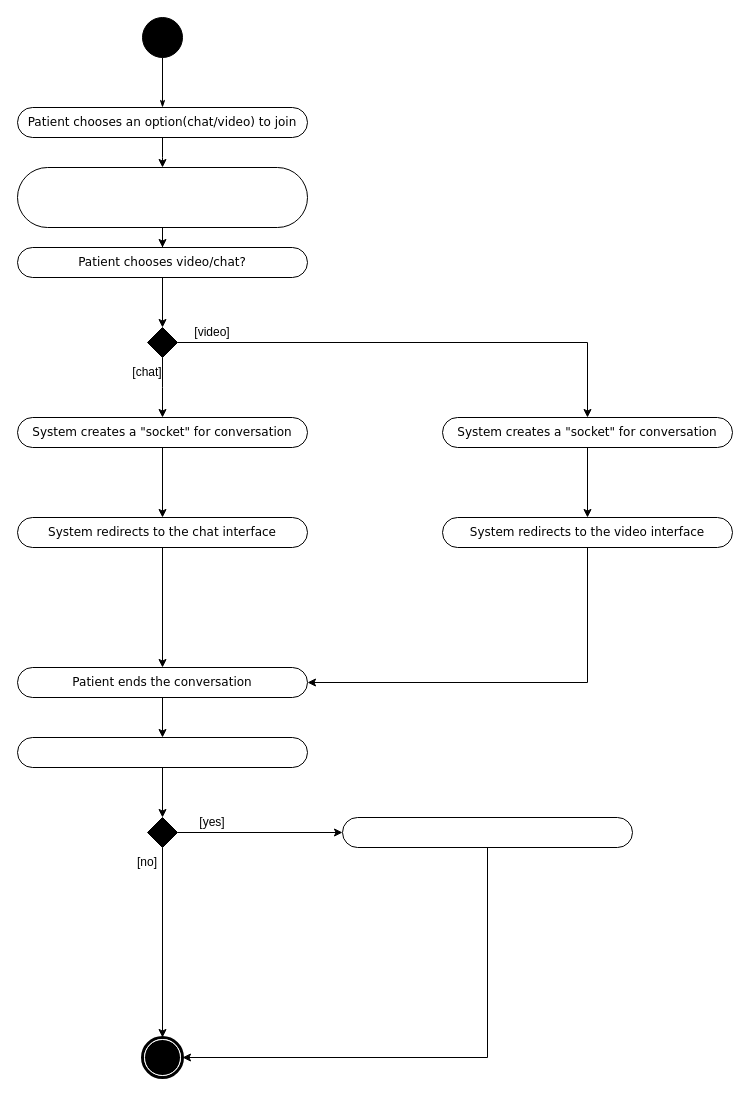
Some shapes in this 750 by 1095 pixel diagram are drawn without their labels. The shapes that lost their labels are listed below. From the top down, each one's box as (x1, y1, x2, y2) in pixels, then its label:
(16, 166, 308, 228): System allows patient to choose chat/video conversation.
(16, 736, 308, 768): Patient chooses to go to the medicine store
(342, 816, 632, 848): System redirects to the store
